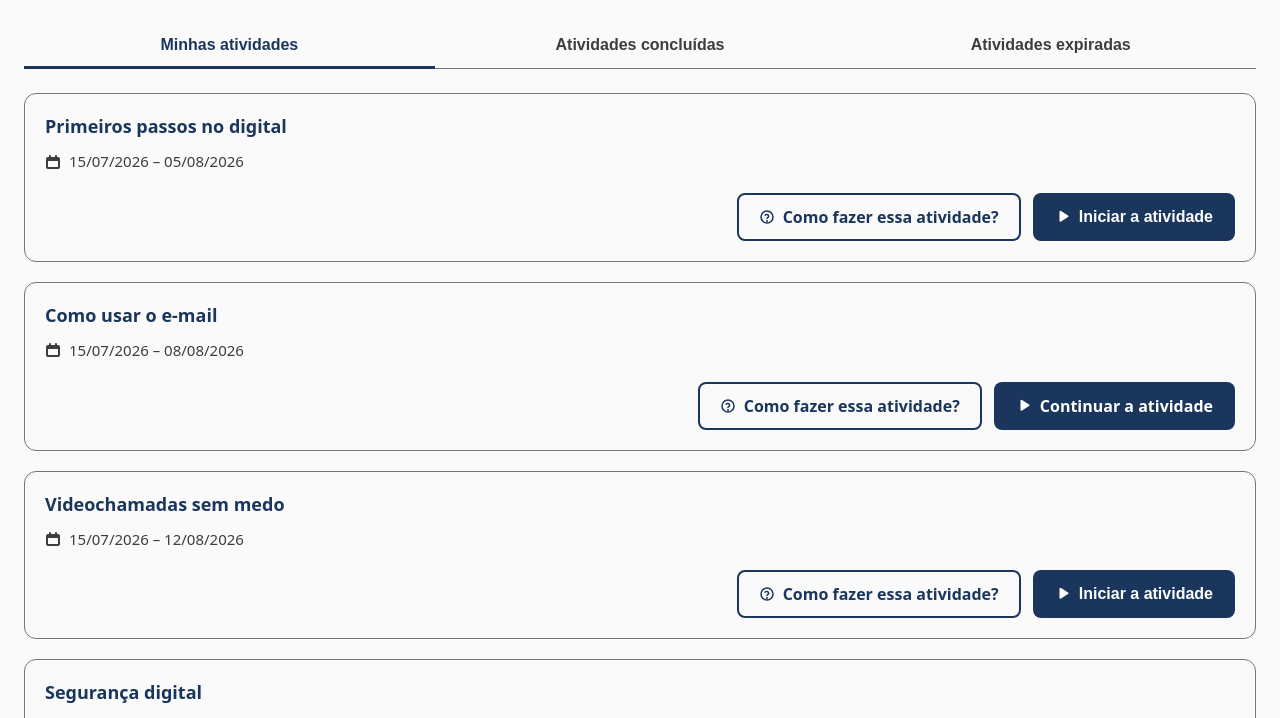
it: TaskListPanel › no modo padrão mantém textos completos de iniciar atividade
Click the button with aria-label "iniciar a atividade: primeiros passos no digital": (1134, 217) [1033,193,1235,241]
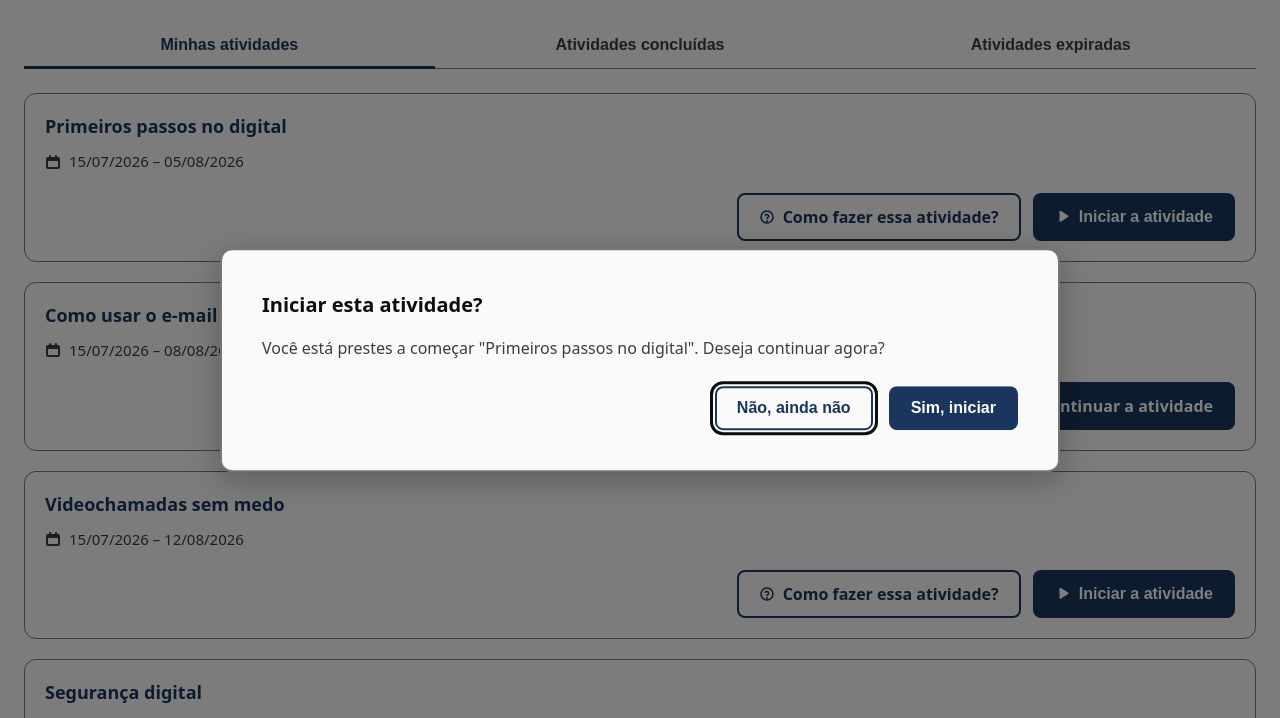
Now the dialog "Iniciar esta atividade" is shown, box [220,248,1060,472]
Now the text "Você está prestes a começar \"Primeiros passos no digital\"" is shown, box [262,337,885,359]
